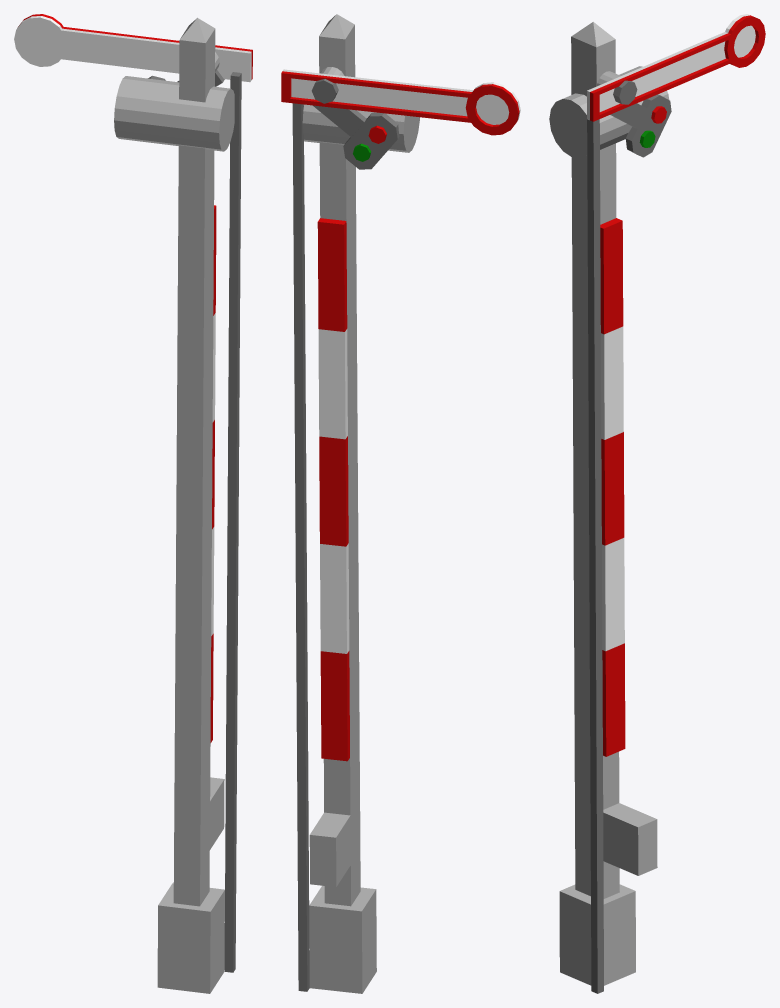
Rendered from GMLID_1429491_351612_1485.gltf.
3 views of the same model, side by side, from view 1: azimuth 30°, elevation 25°; view 2: azimuth 210°, elevation 25°; view 3: azimuth 270°, elevation 25° (orthographic).
Visible parts, largest first — view 1: Z_UP; view 2: Z_UP; view 3: Z_UP.
Part boxes in pixels (x1=…): Z_UP: x1=14, y1=14, x2=252, y2=993; Z_UP: x1=281, y1=14, x2=520, y2=993; Z_UP: x1=549, y1=14, x2=765, y2=993.
Size of the model in its own units: 2.36 by 14.04 by 2.89.
